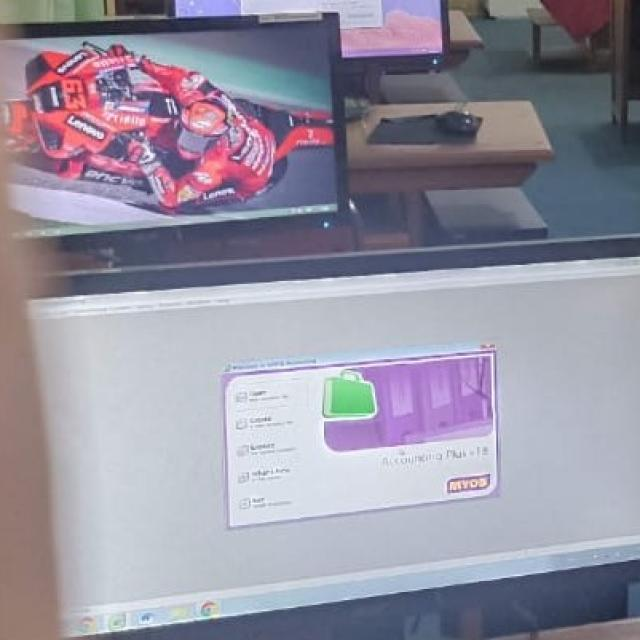onscreen: (29, 250, 634, 634), (12, 20, 348, 250), (178, 0, 447, 65)
